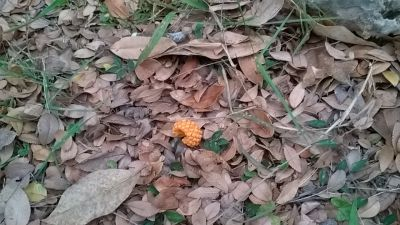eggs: (170, 118, 203, 149)
